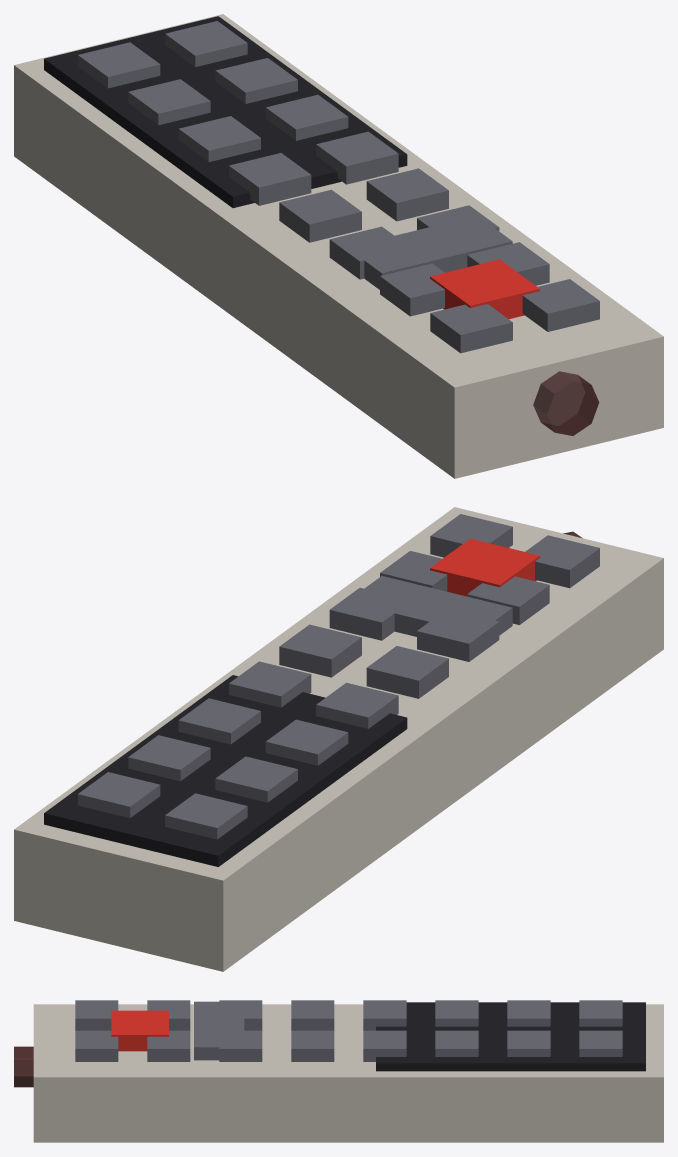
The model's file is remote.glb.
The picture shows the model from 3 angles, top to bottom: view 1: azimuth 30°, elevation 25°; view 2: azimuth 150°, elevation 25°; view 3: azimuth 270°, elevation 25°; orthographic projection. The views are drawn at different scales.
Visible parts, largest first — view 1: remote; view 2: remote; view 3: remote.
Boxes of the visible parts, bbox=[...] form: remote: bbox=[14, 14, 663, 478]; remote: bbox=[14, 507, 663, 971]; remote: bbox=[14, 1000, 663, 1142].
Bounding box in the file's own units: 0.048 × 0.0255 × 0.1805.
